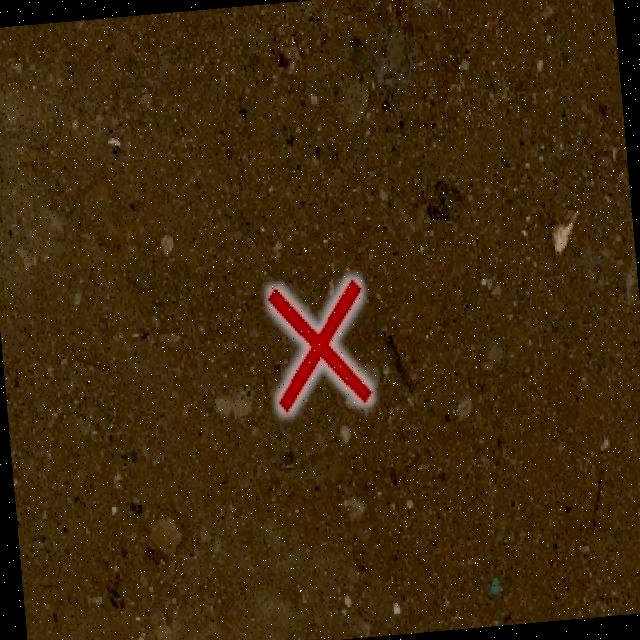x_marker: (268, 278, 370, 410)
